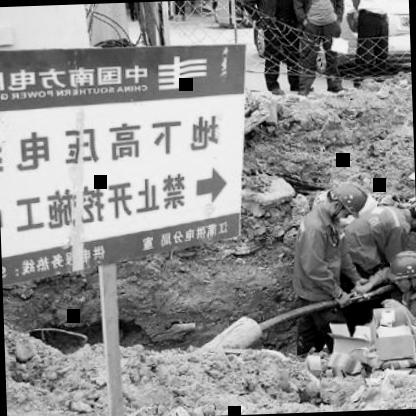helmet: (320, 178, 372, 222), (389, 247, 416, 298)
